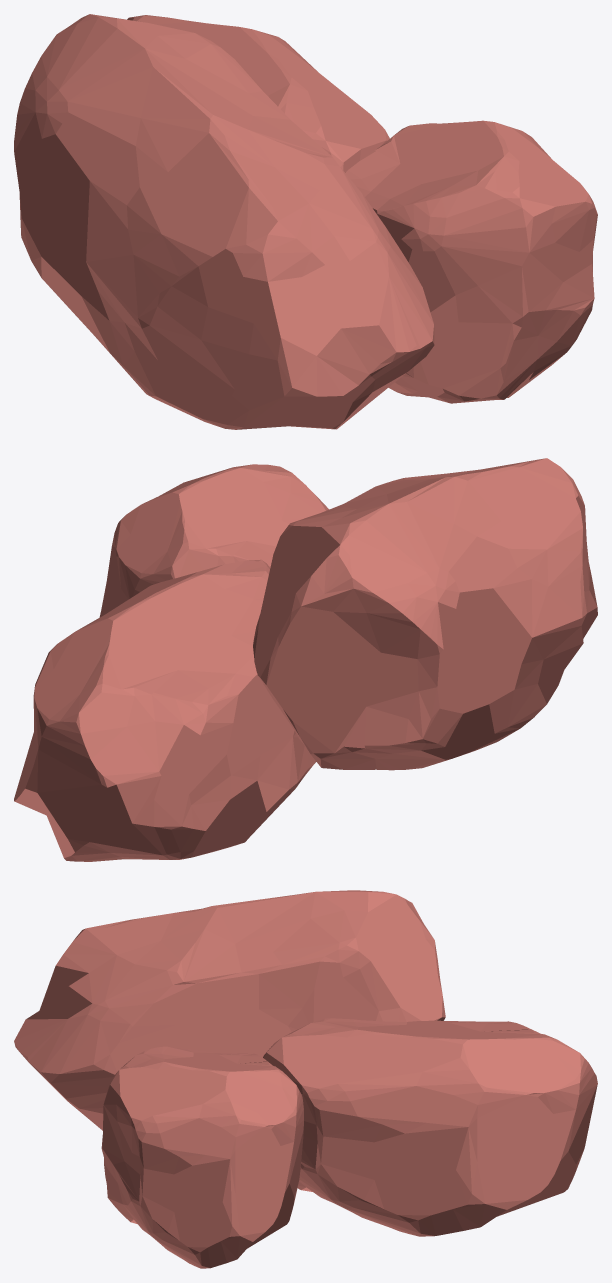
File: stones.obj
The picture shows the model from 3 angles, top to bottom: view 1: azimuth 30°, elevation 25°; view 2: azimuth 150°, elevation 25°; view 3: azimuth 270°, elevation 25°; orthographic projection. The views are drawn at different scales.
Visible parts, largest first — view 1: rock_1_Cube, rock_2_Cube.001, rock_3_Cube.002; view 2: rock_1_Cube, rock_3_Cube.002, rock_2_Cube.001; view 3: rock_1_Cube, rock_3_Cube.002, rock_2_Cube.001.
Part boxes in pixels (x1,y1,x2,y2): rock_1_Cube: (14,14,434,429); rock_2_Cube.001: (345,120,597,403); rock_3_Cube.002: (127,15,389,172); rock_1_Cube: (253,458,597,770); rock_3_Cube.002: (14,559,316,861); rock_2_Cube.001: (99,464,328,617); rock_1_Cube: (14,890,445,1130); rock_3_Cube.002: (263,1018,597,1236); rock_2_Cube.001: (101,1046,303,1268).
Size of the model in its own units: 13.18 by 9.41 by 18.52.
